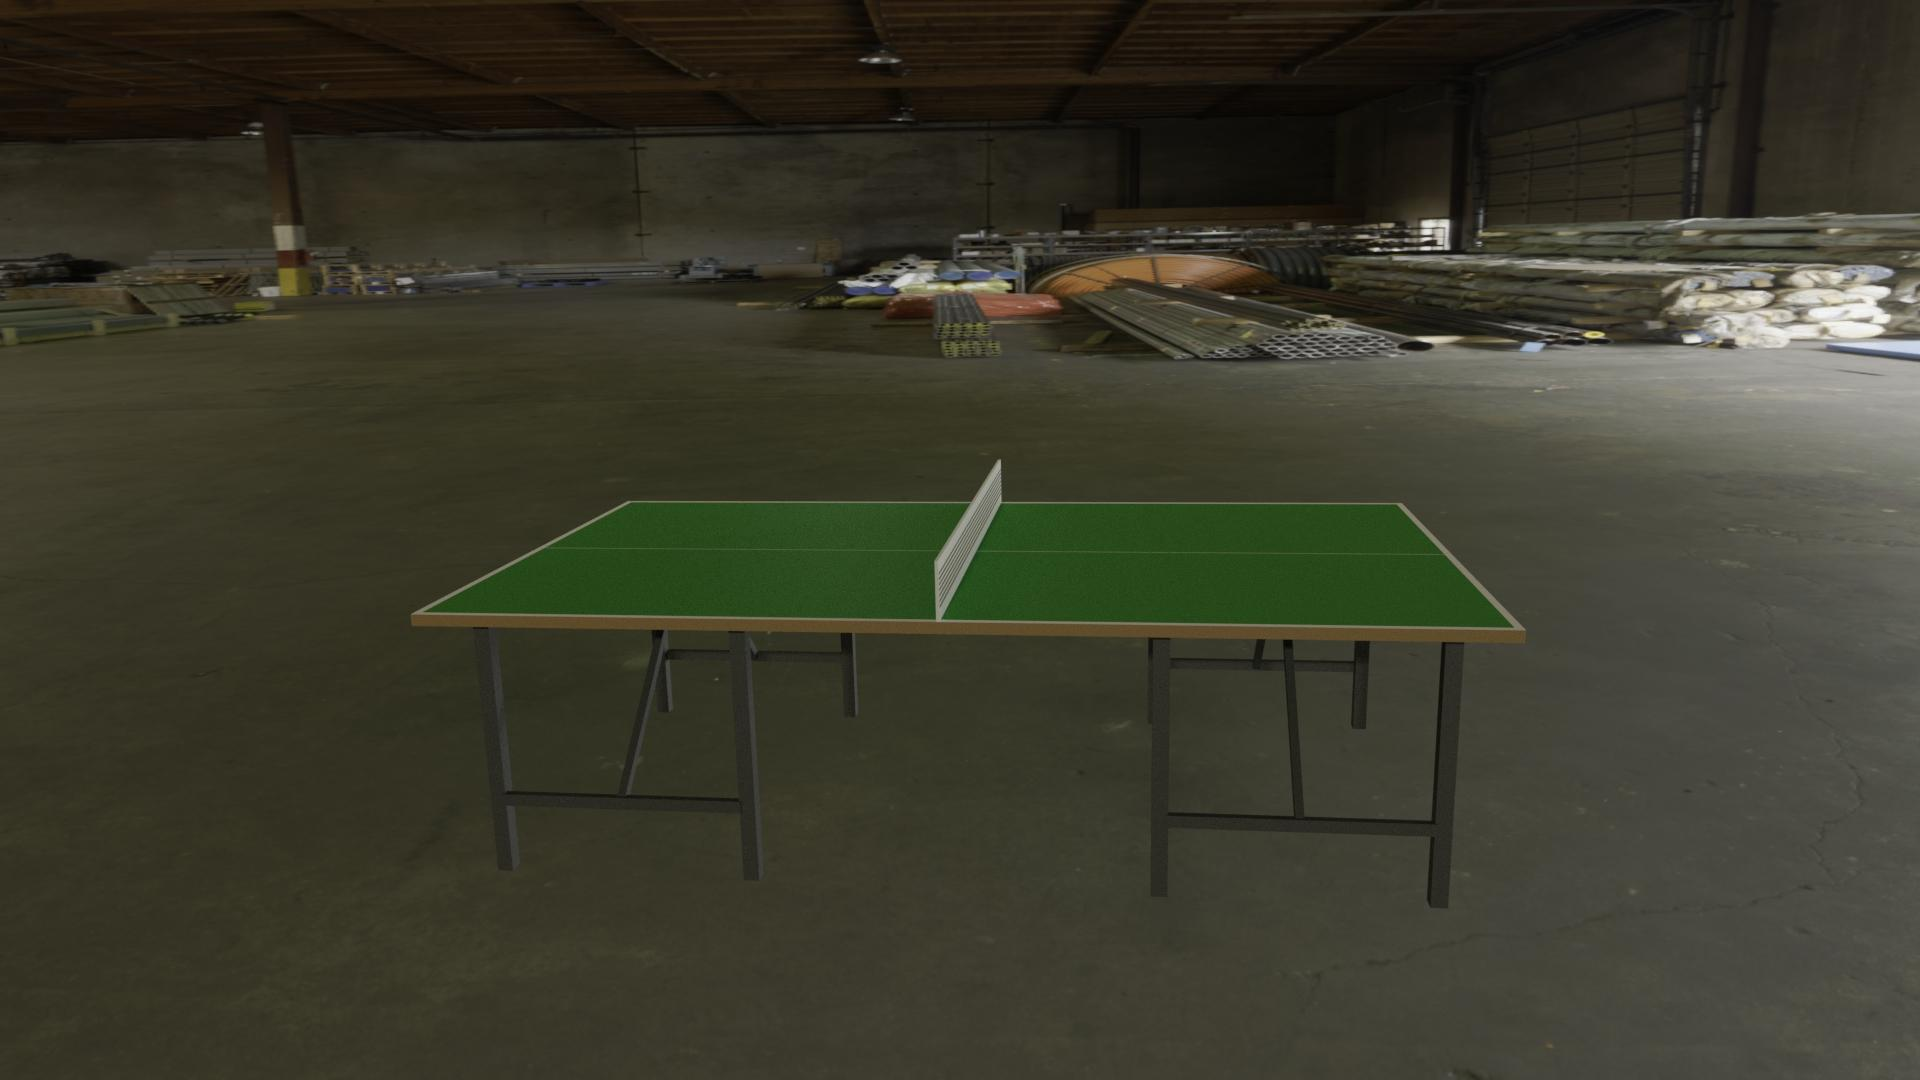table: (422, 502, 1515, 628)
